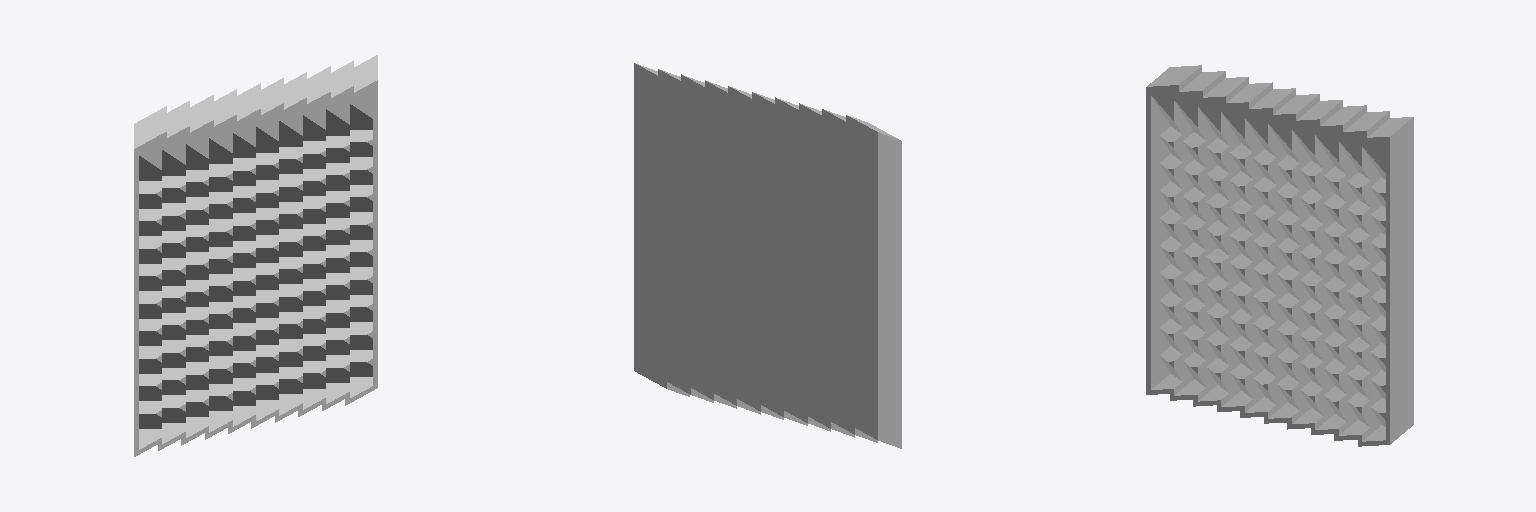
Rendered from Body191.obj.
3 renders of one model, left to right at view 1: azimuth 30°, elevation 25°; view 2: azimuth 150°, elevation 25°; view 3: azimuth 330°, elevation 25°, orthographic.
Visible parts, largest first — view 1: Body191; view 2: Body191; view 3: Body191.
Boxes of the visible parts, x1=… form: Body191: x1=134, y1=55, x2=377, y2=456; Body191: x1=634, y1=63, x2=901, y2=448; Body191: x1=1146, y1=65, x2=1413, y2=446.
Size of the model in its own units: 195 by 242 by 15.33.